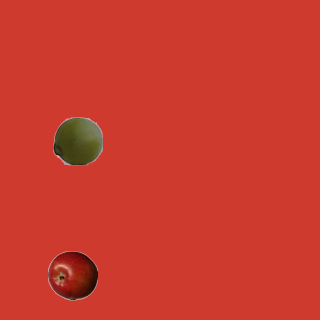Apple Braeburn: (47, 250, 97, 300)
Grape White 4: (52, 115, 102, 165)
